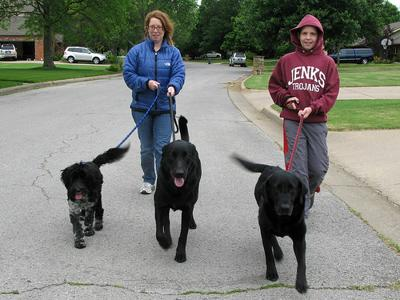person: (123, 11, 185, 194)
